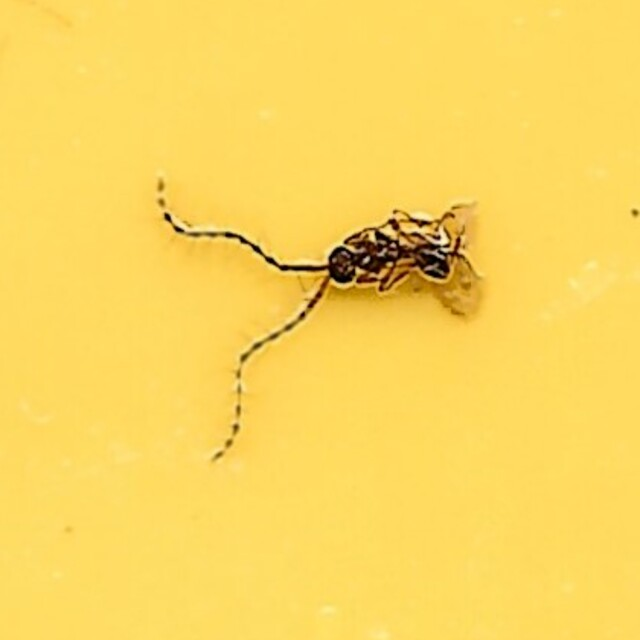Hymenoptera: (152, 177, 488, 463)
